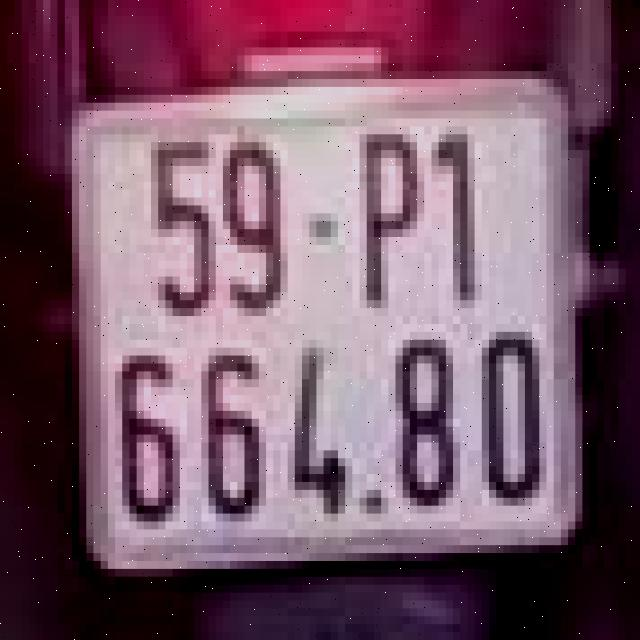0: (474, 320, 546, 510)
1: (424, 119, 496, 316)
4: (280, 324, 352, 529)
5: (148, 138, 220, 320)
6: (187, 336, 273, 533), (108, 348, 194, 537)
8: (385, 332, 464, 513)
9: (216, 130, 295, 320)
P: (334, 115, 421, 312)
